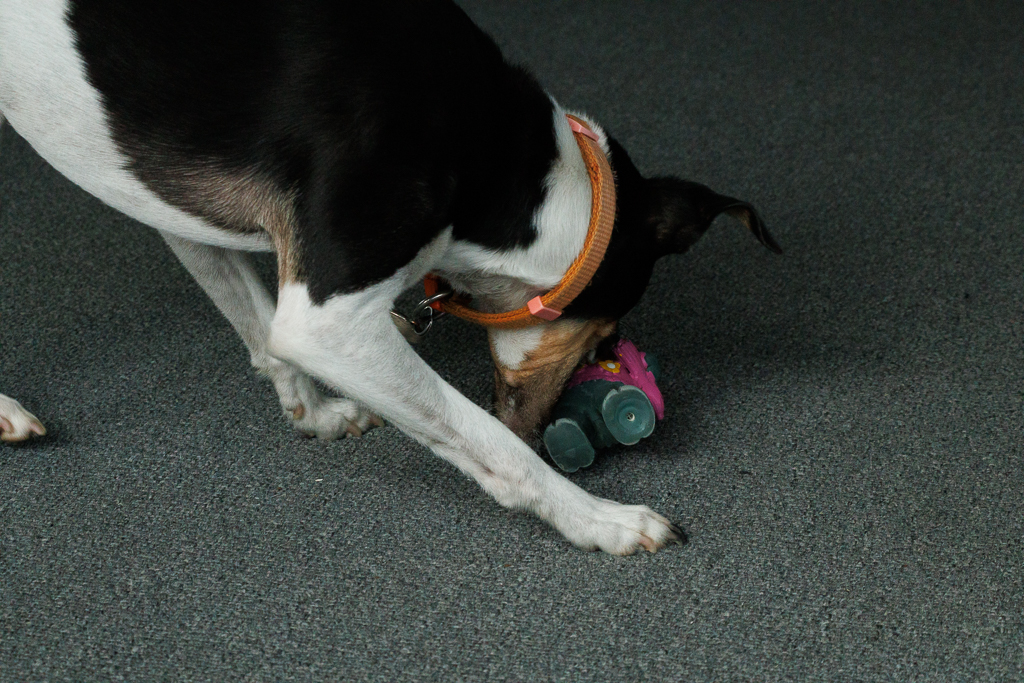Dog: (0, 0, 797, 564)
Humanoid: (516, 309, 685, 493)
